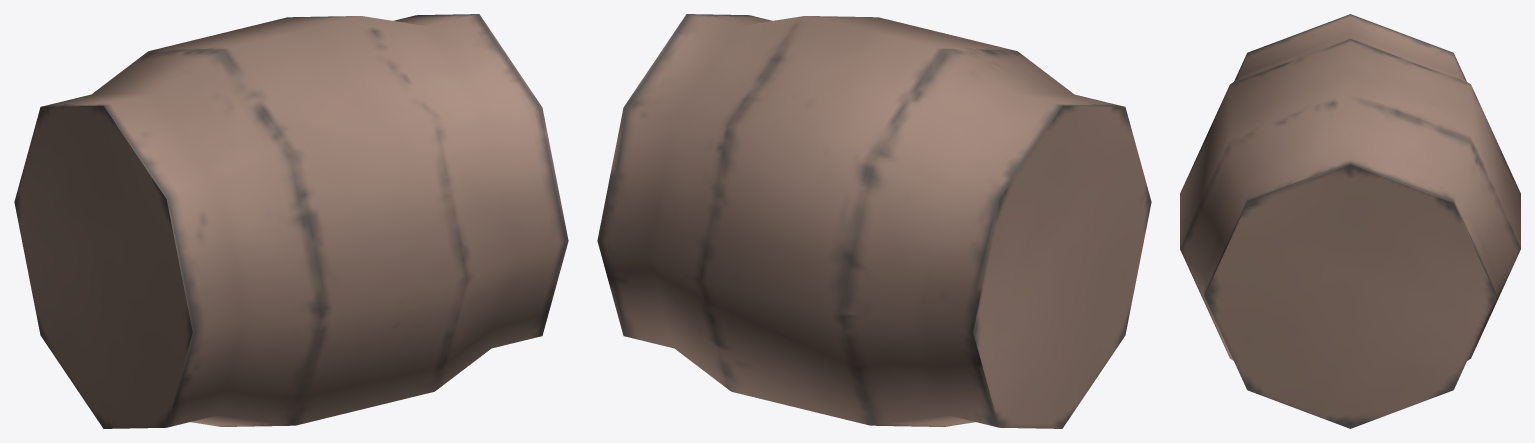
The model's file is NM_ThinTube_Connector_03.fbx.
3 views of the same model, side by side, from view 1: azimuth 30°, elevation 25°; view 2: azimuth 150°, elevation 25°; view 3: azimuth 270°, elevation 25° (orthographic). The views are drawn at different scales.
Parts seen in each view (by area): view 1: Tube_Convers01_low; view 2: Tube_Convers01_low; view 3: Tube_Convers01_low.
Boxes of the visible parts, x1,y1,x2,y2 form: Tube_Convers01_low: [14, 14, 568, 428]; Tube_Convers01_low: [597, 14, 1151, 428]; Tube_Convers01_low: [1180, 14, 1520, 428].
Size of the model in its own units: 12.82 by 12.3 by 12.3.
